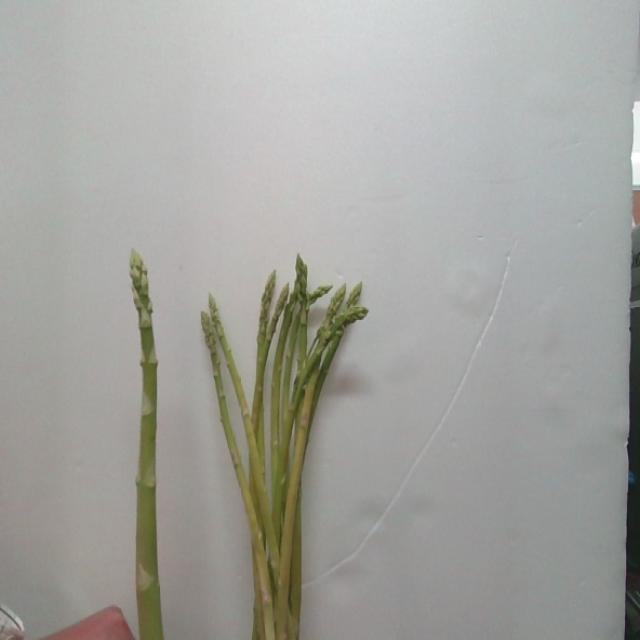aspargus: (129, 250, 165, 640)
